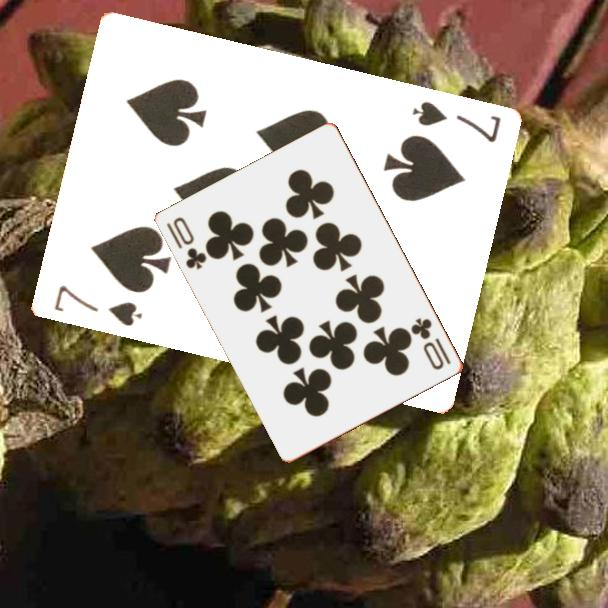c10: (163, 213, 210, 273), (408, 314, 454, 373)
s07: (50, 282, 145, 330), (408, 98, 503, 146)
